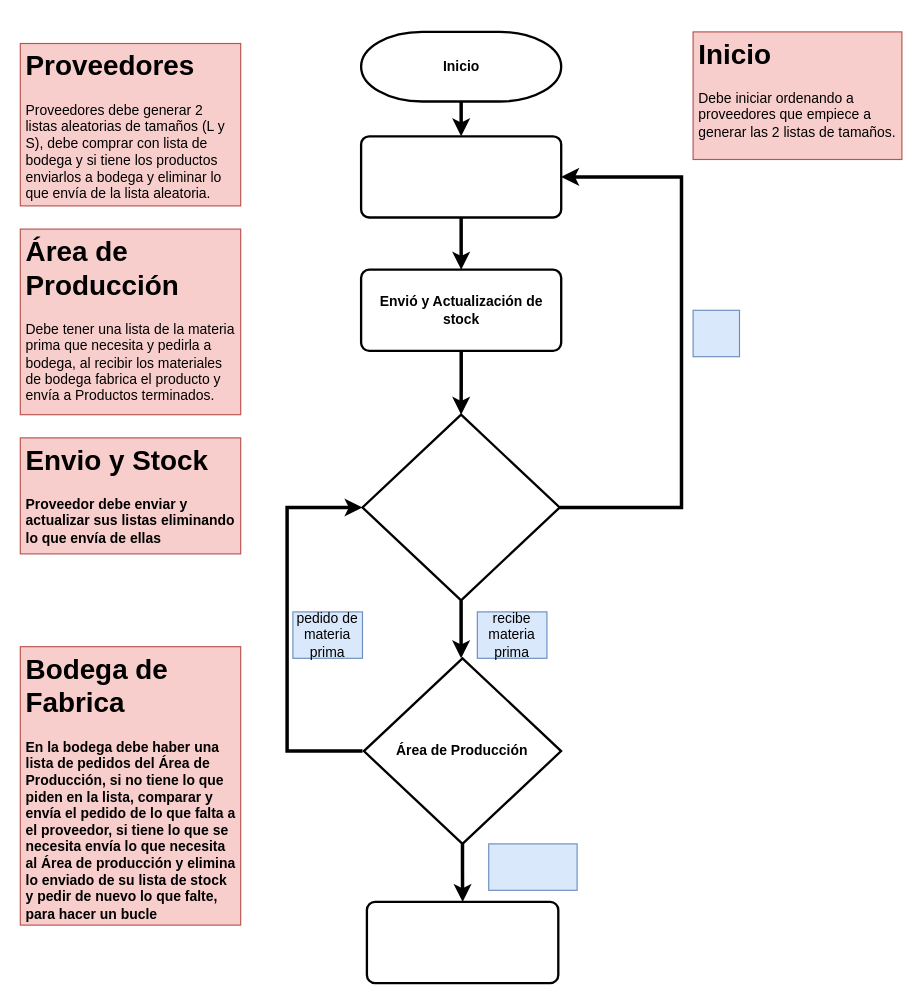
The diagram is 922 pixels wide and 1003 high, and some of its shapes have lost their labels. The centre of each missing label's shape, as x and y in pixels:
Bodega de Fabrica: [460,507]
Envia Productos Terminados: [532,866]
Envio de pedido: [716,333]
Productos Terminados: [462,942]
Proveedores de Materia Prima: [460,176]
